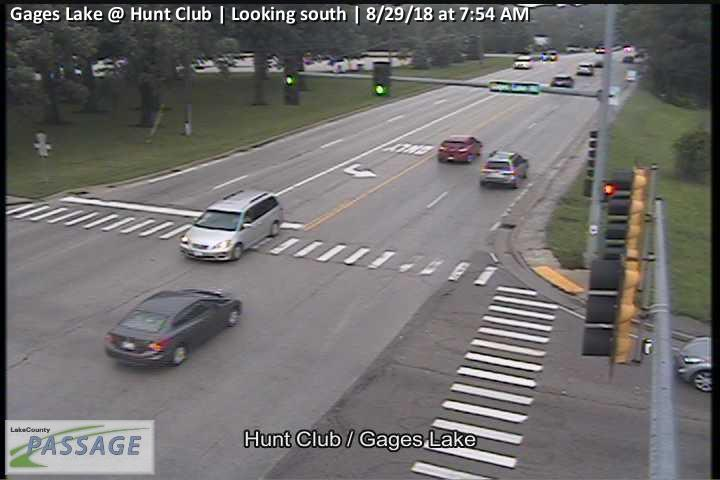SUV: (176, 189, 285, 261), (479, 151, 531, 189)
Sedan: (104, 285, 241, 367), (436, 133, 483, 164)
